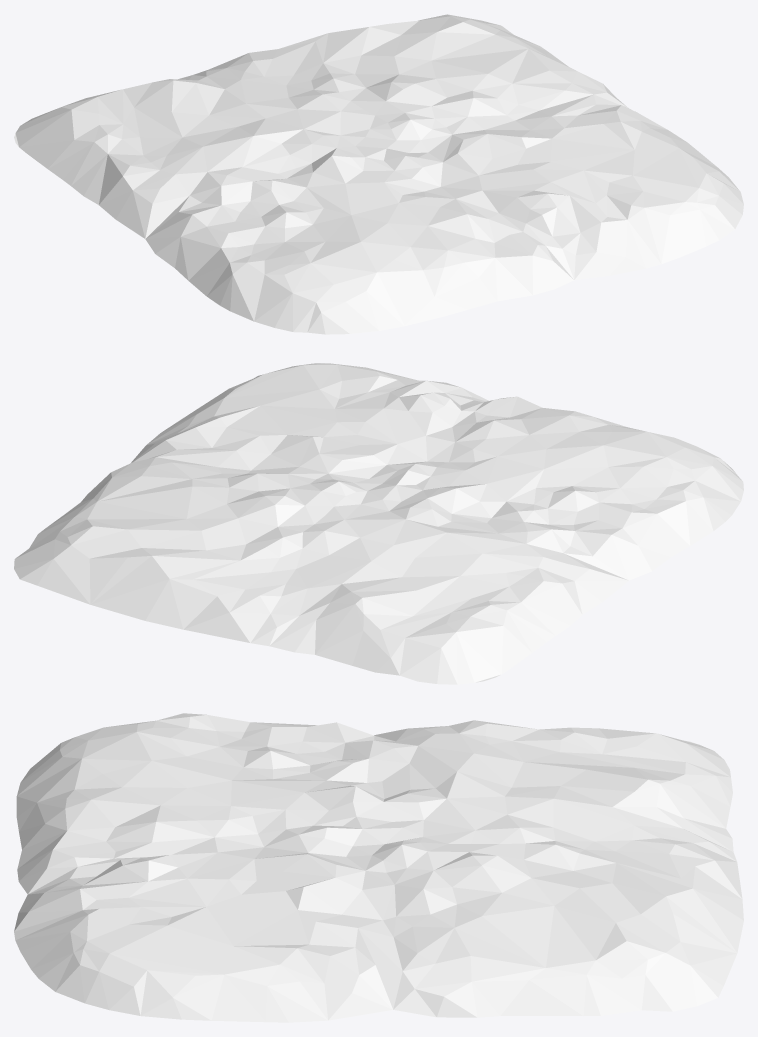
File: land_005.fbx
3 renders of one model, top to bottom at view 1: azimuth 30°, elevation 25°; view 2: azimuth 150°, elevation 25°; view 3: azimuth 270°, elevation 25°, orthographic. The views are drawn at different scales.
Visible parts, largest first — view 1: land_005; view 2: land_005; view 3: land_005.
Boxes of the visible parts, bbox=[...] form: land_005: bbox=[14, 14, 743, 334]; land_005: bbox=[14, 363, 743, 684]; land_005: bbox=[14, 713, 743, 1022].
Size of the model in its own units: 3944 by 4166 by 333.
